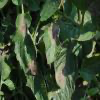Potato leaf late blight: (13, 12, 38, 80), (54, 49, 80, 92), (42, 21, 60, 66)
